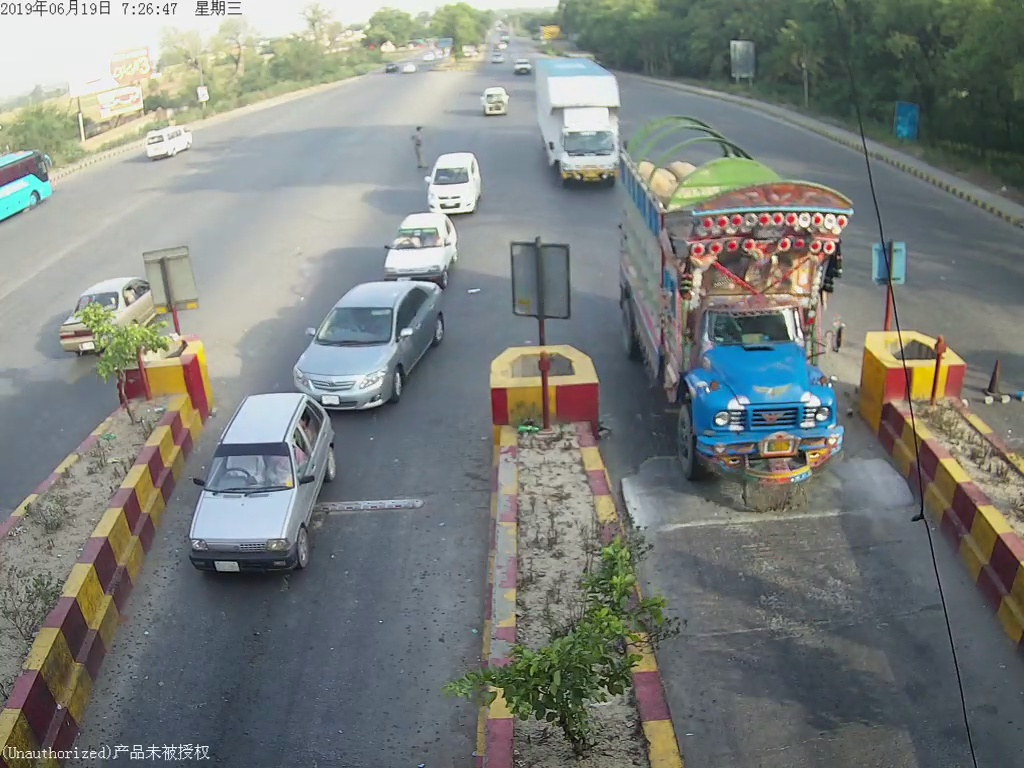Cat-1: (183, 397, 336, 576), (295, 281, 448, 403), (377, 210, 457, 278), (427, 150, 479, 207)
Cat-4: (622, 122, 857, 517), (536, 57, 615, 188)
